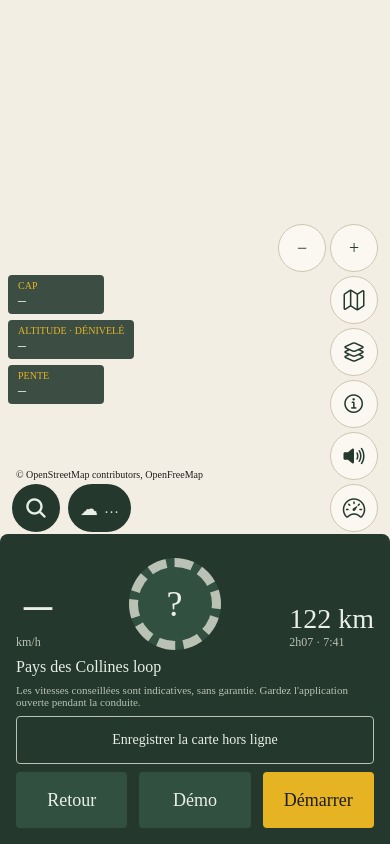
Scenario: a refused location permission is said in French
Click the button "Démarrer" at (318, 800), box [263, 772, 374, 828]
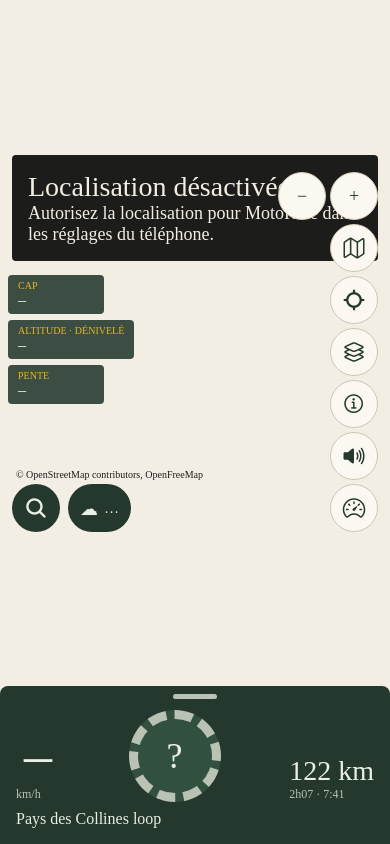
Now the text "Localisation désactivée" is shown, box [28, 171, 290, 202]
